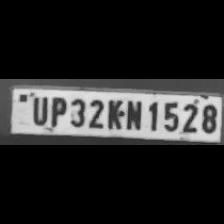1: (143, 98, 159, 132)
2: (178, 99, 198, 133), (86, 96, 104, 130)
3: (66, 95, 86, 127)
5: (160, 98, 180, 132)
8: (197, 100, 217, 134)
K: (104, 96, 124, 130)
N: (123, 96, 143, 132)
P: (47, 94, 67, 126)
U: (28, 94, 48, 126)
